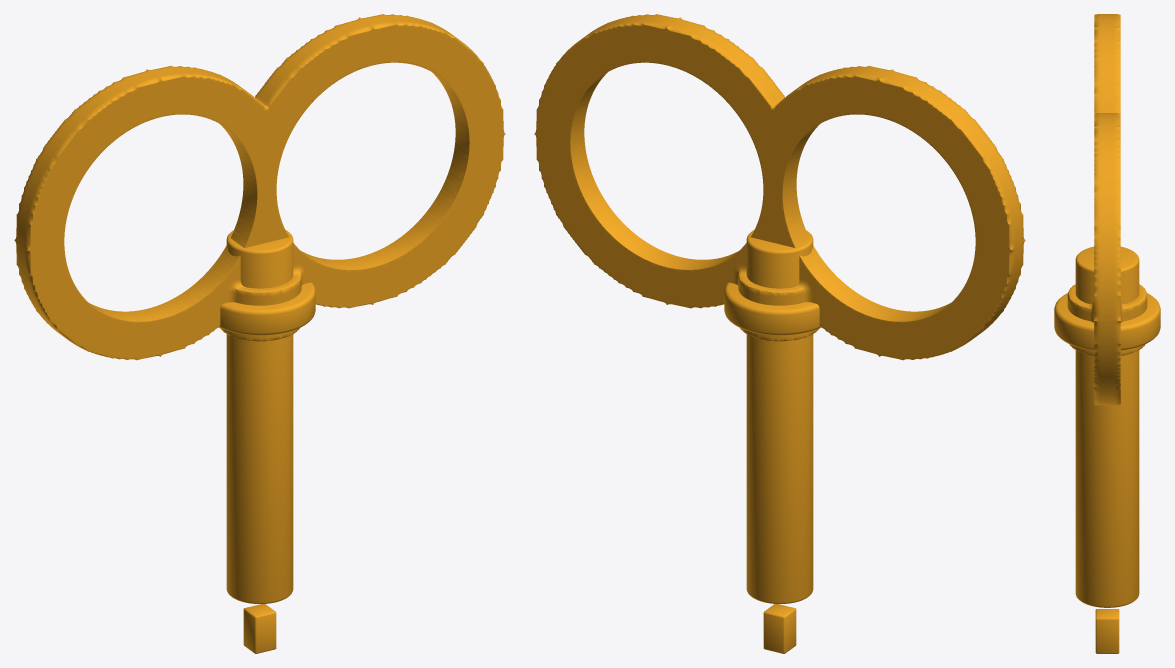
The model's file is PlayerZenmai.obj.
3 views of the same model, side by side, from view 1: azimuth 30°, elevation 25°; view 2: azimuth 150°, elevation 25°; view 3: azimuth 270°, elevation 25° (orthographic). The views are drawn at different scales.
Parts seen in each view (by area): view 1: ZenmaiKey; view 2: ZenmaiKey; view 3: ZenmaiKey.
Boxes of the visible parts, x1,y1,x2,y2 form: ZenmaiKey: (14, 14, 505, 653); ZenmaiKey: (534, 14, 1025, 653); ZenmaiKey: (1054, 14, 1160, 653).
Size of the model in its own units: 1.98 by 2.38 by 0.4.
Materials: 1 (1 with a texture image).
